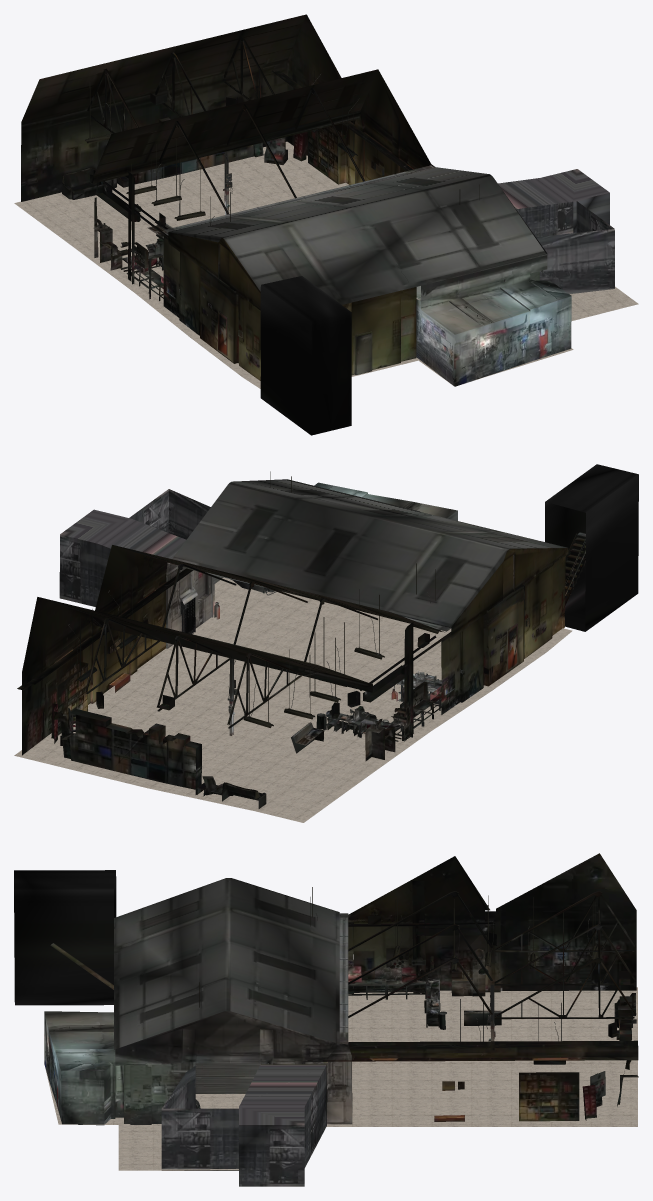
File: garage.glb
3 views of the same model, one above another, from view 1: azimuth 30°, elevation 25°; view 2: azimuth 150°, elevation 25°; view 3: azimuth 270°, elevation 25° (orthographic). The views are drawn at different scales.
Parts seen in each view (by area): view 1: Object_3.005; view 2: Object_3.005; view 3: Object_3.005.
Boxes of the visible parts, x1,y1,x2,y2 form: Object_3.005: (14,14,638,435); Object_3.005: (14,464,638,822); Object_3.005: (14,853,638,1186).
Size of the model in its own units: 23.76 by 7.85 by 31.06.
Materials: 5 (5 with a texture image).
